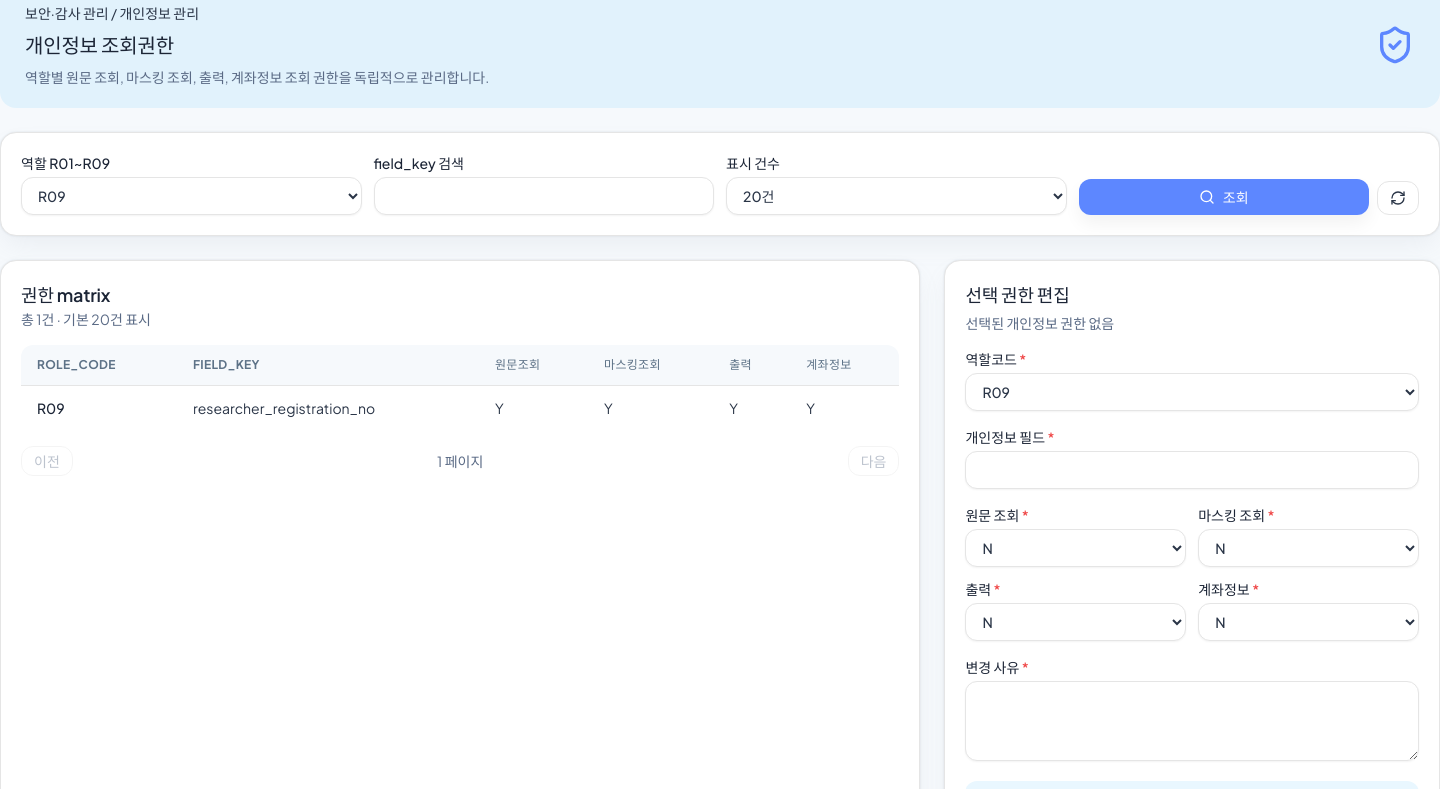
Test: PrivacyPermissionManagementPage › 행 선택 후 독립 권한 플래그를 저장하고 성공 재조회를 수행한다
This screenshot has width=1440, height=789.
Step 1. Click the row with test id "privacy-permission-row-1" → (284, 408), box [21, 386, 899, 430]
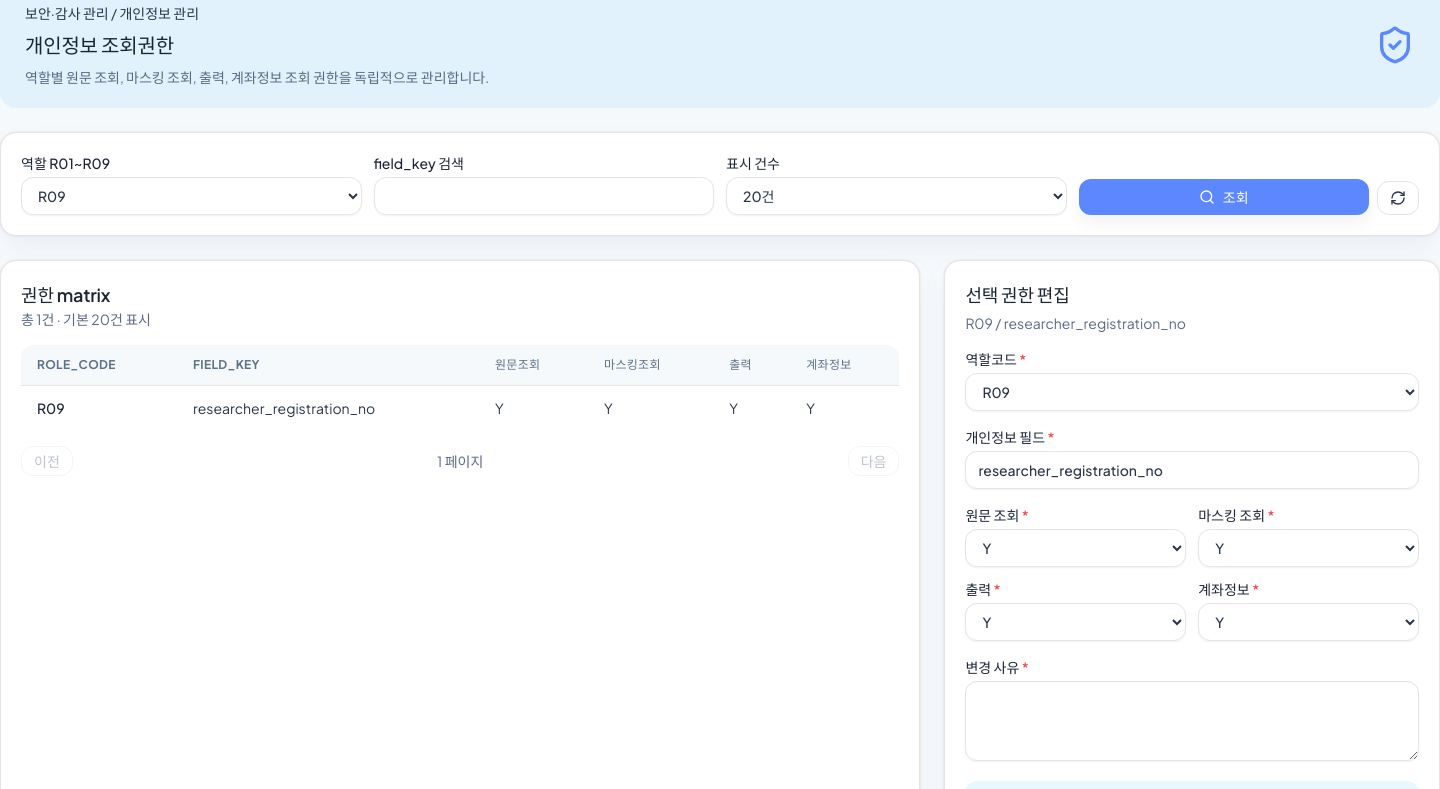
Step 2. Select "N" in the dropdown with test id "privacy-permission-masked-select" → (1309, 548), box [1198, 529, 1419, 567]
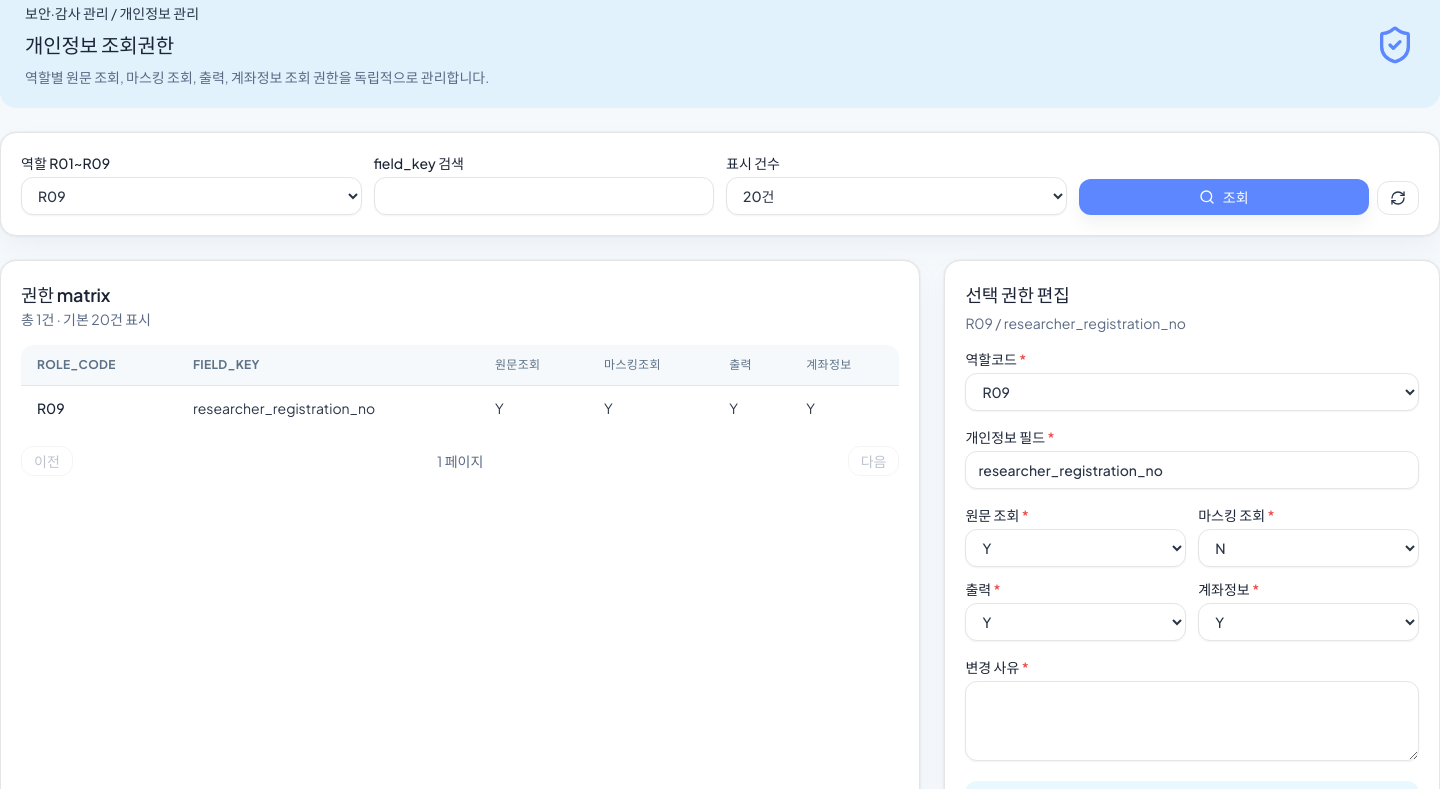
Step 3. Type "원문과 출력만 허용" into the text box with test id "privacy-permission-change-reason-input" → (1192, 721), box [965, 681, 1419, 761]
(page scrolled)
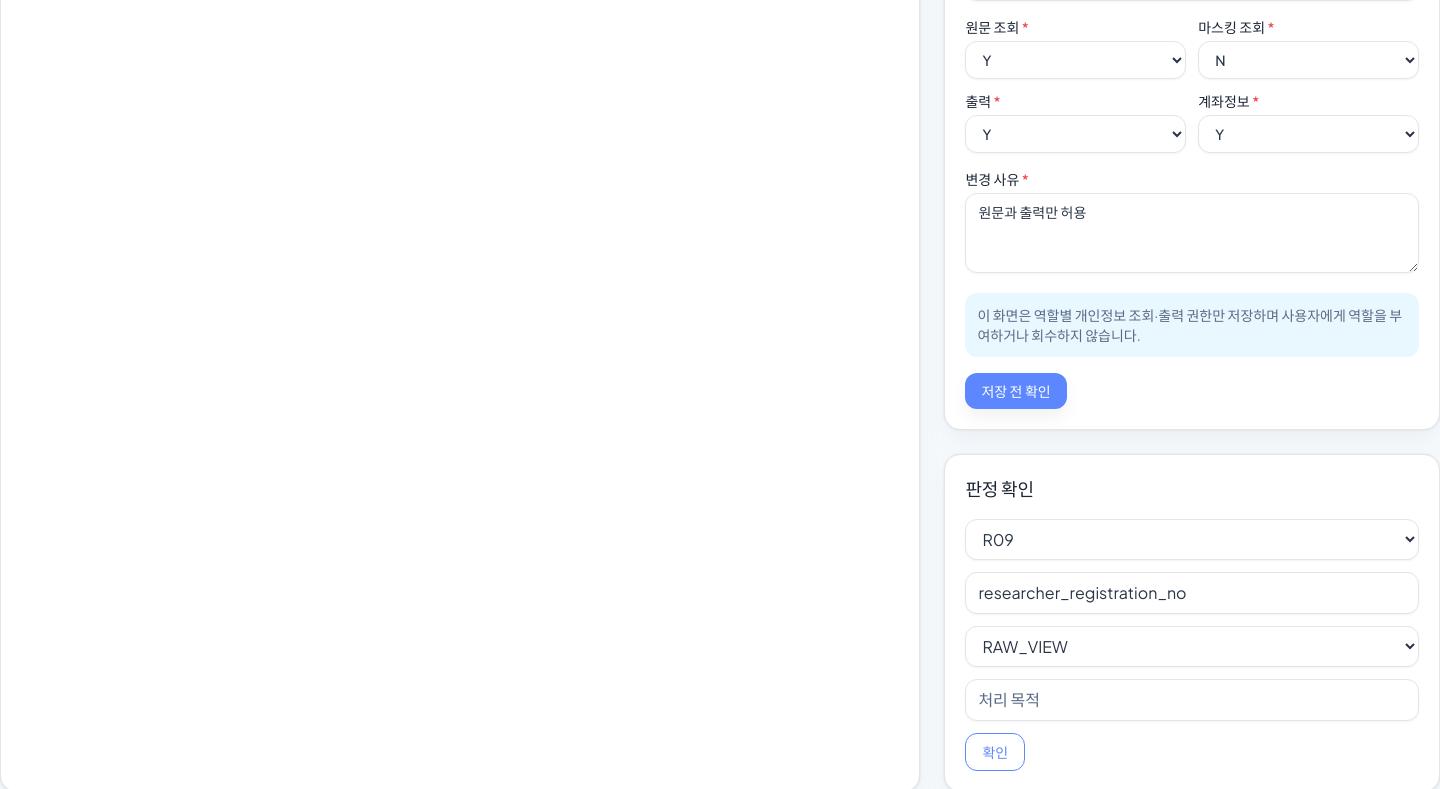
Step 4. Click the button with test id "privacy-permission-save-button" → (1016, 391), box [965, 373, 1067, 409]
(page scrolled)
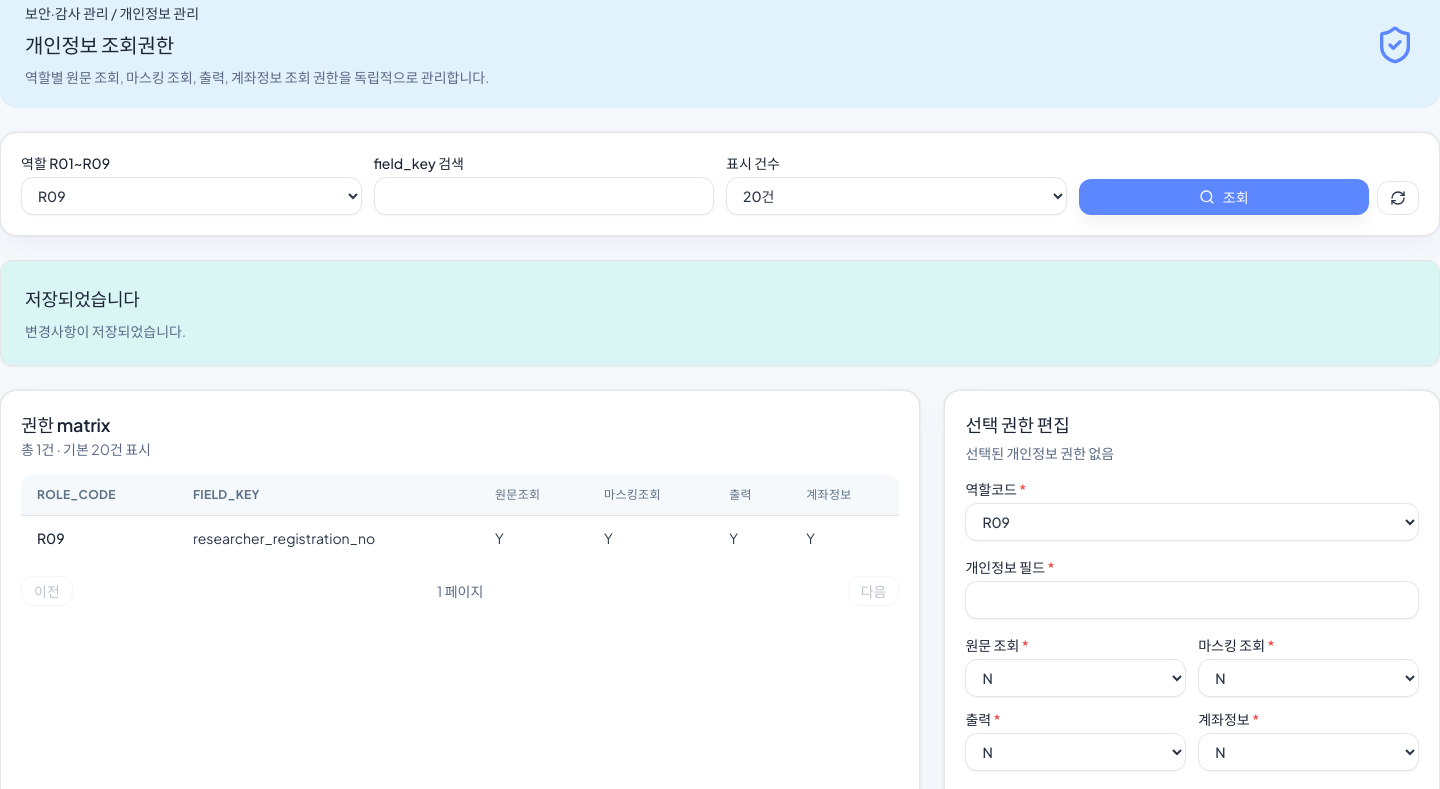
Result: the heading "저장되었습니다" is shown at [25, 287, 140, 310]
